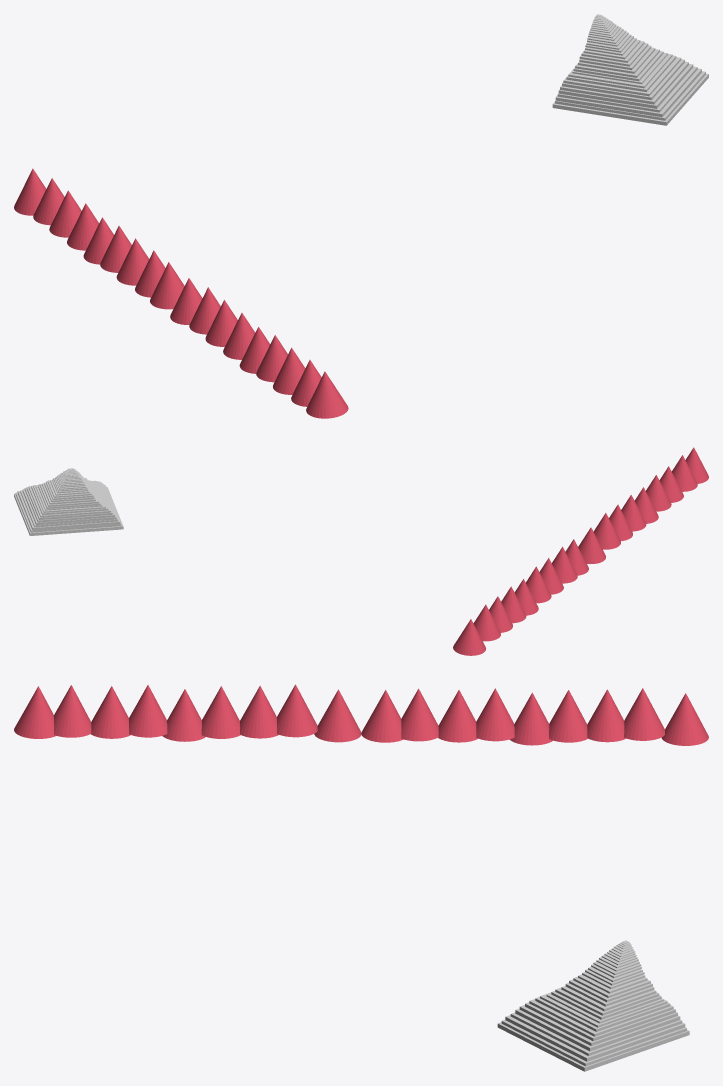
The picture shows the model from 3 angles, top to bottom: view 1: azimuth 30°, elevation 25°; view 2: azimuth 150°, elevation 25°; view 3: azimuth 270°, elevation 25°; orthographic projection. The views are drawn at different scales.
Visible parts, largest first — view 1: Cube.004, Cone.008, Cone.001; view 2: Cube.004, Cone.001, Cone.008; view 3: Cube.004, Cone.008, Cone.001.
Part boxes in pixels (<box>): Cube.004: <box>552,14,708,125</box>; Cone.008: <box>170,278,348,418</box>; Cone.001: <box>14,168,184,309</box>; Cube.004: <box>14,468,123,535</box>; Cone.001: <box>453,539,588,655</box>; Cone.008: <box>578,447,708,563</box>; Cube.004: <box>497,940,689,1071</box>; Cone.008: <box>14,684,361,742</box>; Cone.001: <box>361,688,708,745</box>.
Size of the model in its own units: 30900 by 3667 by 25642.
